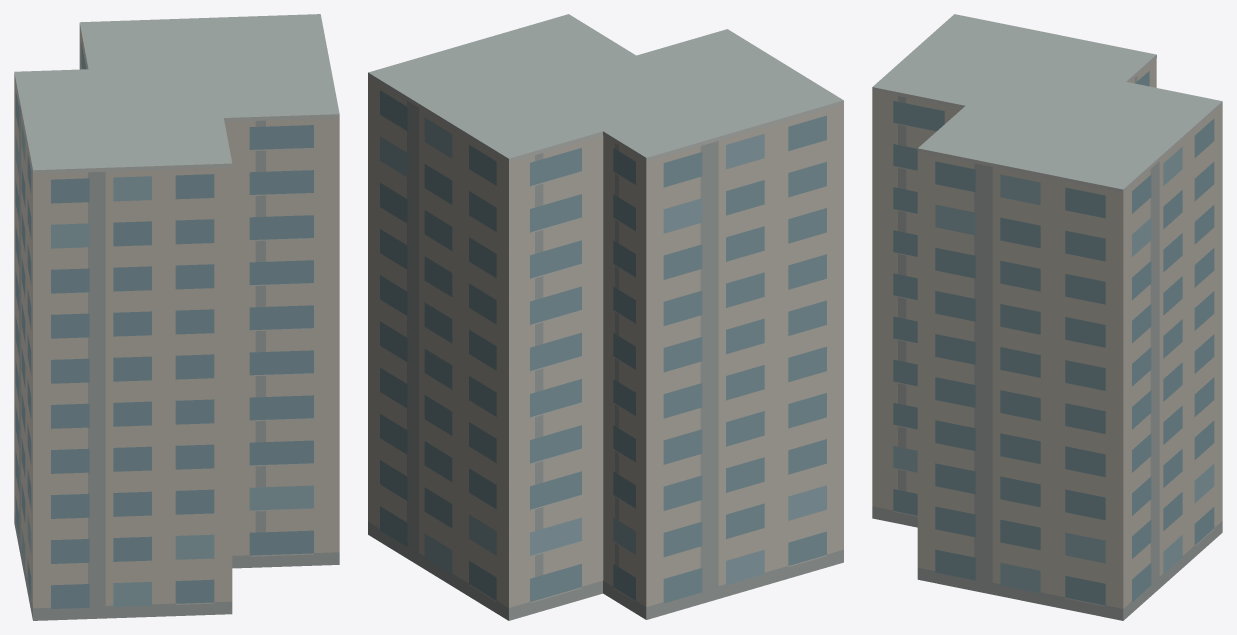
The model's file is residential-1a1994ce-6183-4f2f-8770-f6f8d3938606.glb.
3 renders of one model, left to right at view 1: azimuth 30°, elevation 25°; view 2: azimuth 150°, elevation 25°; view 3: azimuth 270°, elevation 25°, orthographic. The views are drawn at different scales.
Parts seen in each view (by area): view 1: residential-1a1994ce-6183-4f2f-8770-f6f8d3938606.tmp; view 2: residential-1a1994ce-6183-4f2f-8770-f6f8d3938606.tmp; view 3: residential-1a1994ce-6183-4f2f-8770-f6f8d3938606.tmp.
Boxes of the visible parts, x1,y1,x2,y2 form: residential-1a1994ce-6183-4f2f-8770-f6f8d3938606.tmp: (14, 14, 339, 620); residential-1a1994ce-6183-4f2f-8770-f6f8d3938606.tmp: (368, 14, 843, 620); residential-1a1994ce-6183-4f2f-8770-f6f8d3938606.tmp: (872, 14, 1222, 620).
Size of the model in its own units: 24.44 by 28 by 20.62.
